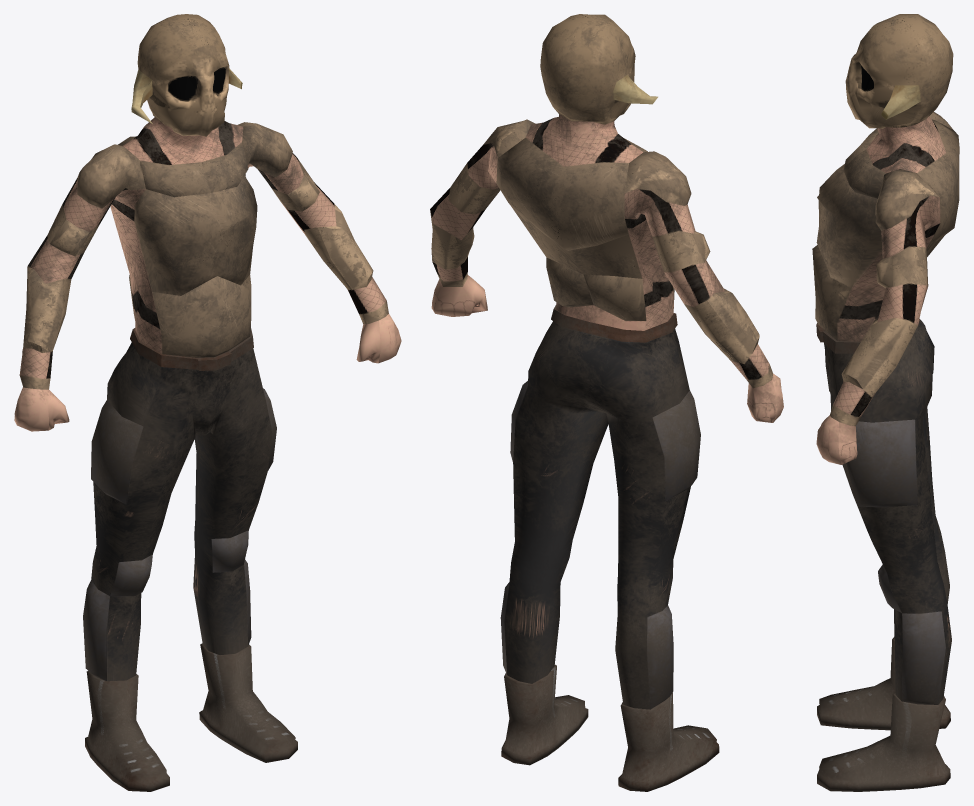
The model's file is Anim_idle_npc1.0045.obj.
The picture shows the model from 3 angles, left to right: view 1: azimuth 30°, elevation 25°; view 2: azimuth 150°, elevation 25°; view 3: azimuth 270°, elevation 25°; orthographic projection. The views are drawn at different scales.
Visible parts, largest first — view 1: NPC2; view 2: NPC2; view 3: NPC2.
Part boxes in pixels (x1,y1,x2,y2): NPC2: (14,14,401,791); NPC2: (430,14,783,791); NPC2: (812,14,959,791).
Size of the model in its own units: 5.03 by 9.67 by 1.75.
